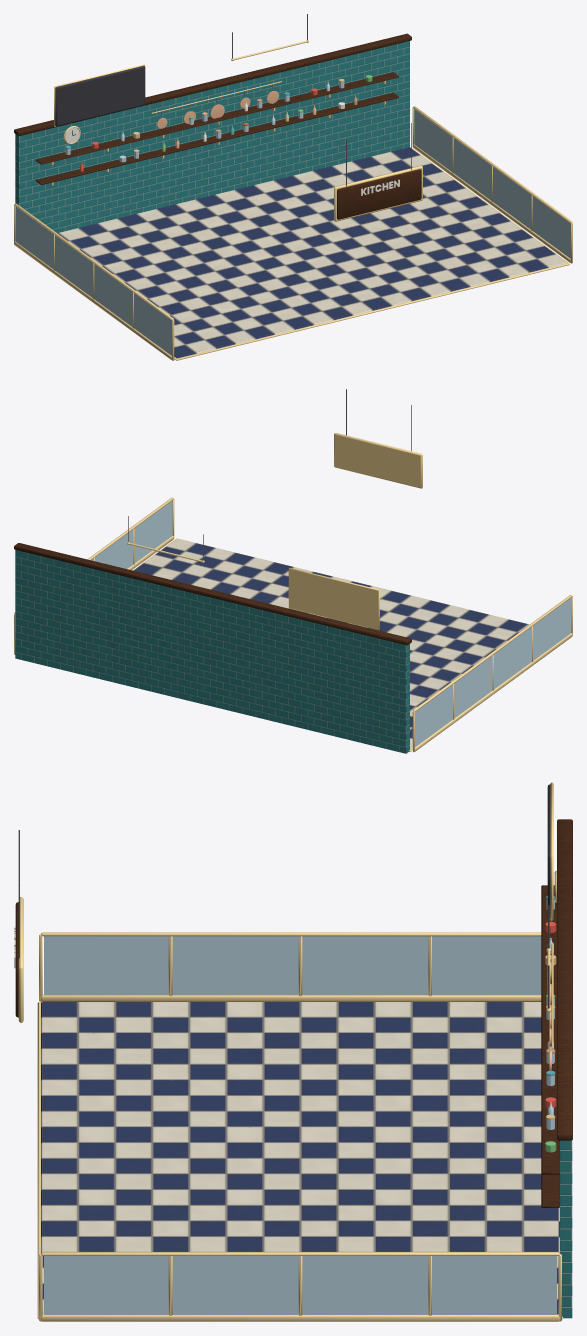
Rendered from kr_layC_shell.glb.
3 views of the same model, one above another, from view 1: azimuth 30°, elevation 25°; view 2: azimuth 150°, elevation 25°; view 3: azimuth 270°, elevation 25° (orthographic). The views are drawn at different scales.
Parts seen in each view (by area): view 1: kr_layC_shell_checker3, kr_layC_shell_subway_teal, vc_m0_r2, kr_layC_shell_darkwood, vc_m8_r2, vc_m0_r4, vc_m8_r4; view 2: kr_layC_shell_subway_teal, kr_layC_shell_checker3, vc_m8_r2, vc_m0_r2, kr_layC_shell_darkwood; view 3: kr_layC_shell_checker3, vc_m0_r2, vc_m8_r2, kr_layC_shell_darkwood, kr_layC_shell_subway_teal, vc_m0_r4, vc_m8_r4.
Boxes of the visible parts, <box> form: kr_layC_shell_checker3: <box>57,147,567,358</box>; kr_layC_shell_subway_teal: <box>15,41,409,232</box>; vc_m0_r2: <box>15,81,570,355</box>; kr_layC_shell_darkwood: <box>14,33,421,219</box>; vc_m8_r2: <box>14,40,572,360</box>; vc_m0_r4: <box>55,65,399,195</box>; vc_m8_r4: <box>157,14,411,186</box>; kr_layC_shell_subway_teal: <box>15,550,409,753</box>; kr_layC_shell_checker3: <box>134,538,529,749</box>; vc_m8_r2: <box>14,433,572,752</box>; vc_m0_r2: <box>91,500,571,746</box>; kr_layC_shell_darkwood: <box>14,543,411,645</box>; kr_layC_shell_checker3: <box>41,1002,559,1314</box>; vc_m0_r2: <box>44,899,556,1314</box>; vc_m8_r2: <box>18,782,562,1321</box>; kr_layC_shell_darkwood: <box>15,819,572,1207</box>; kr_layC_shell_subway_teal: <box>560,1140,572,1318</box>; vc_m0_r4: <box>14,784,556,1152</box>; vc_m8_r4: <box>18,830,555,1070</box>.
Size of the model in its own units: 12.32 by 5.46 by 9.05.
8 materials, 3 textured.
